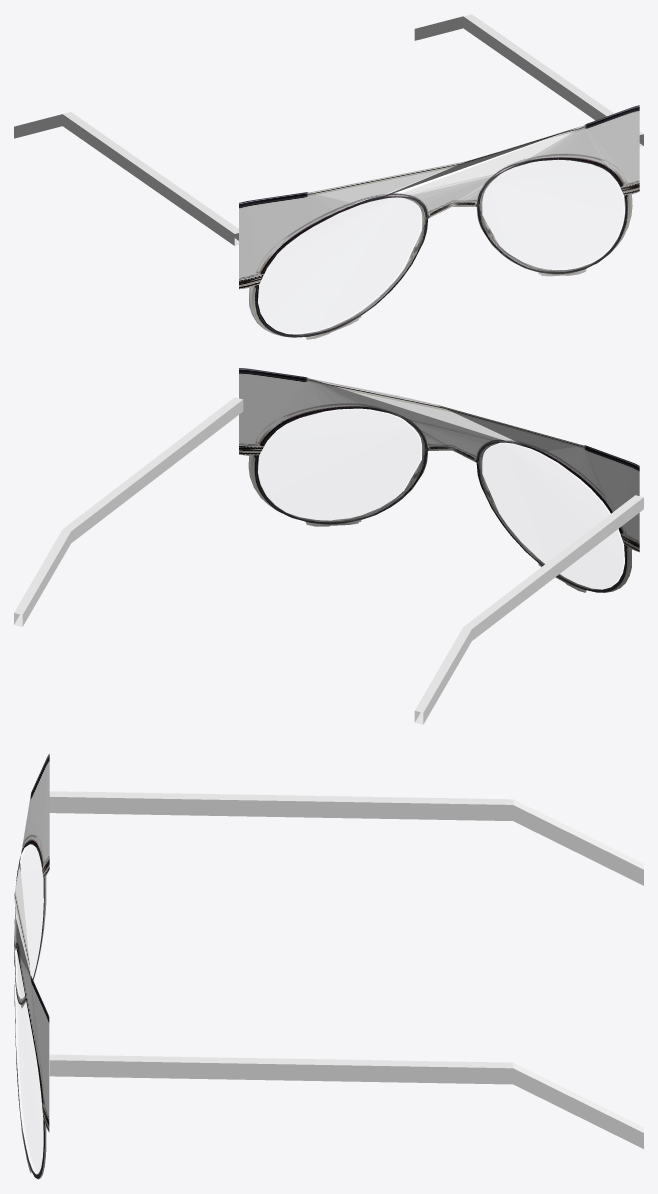
The model's file is trend-spotter-supreme-6_black-silver.glb.
The picture shows the model from 3 angles, top to bottom: view 1: azimuth 30°, elevation 25°; view 2: azimuth 150°, elevation 25°; view 3: azimuth 270°, elevation 25°; orthographic projection. The views are drawn at different scales.
Parts seen in each view (by area): view 1: frame_front, temple_viewer_left, temple_viewer_right; view 2: frame_front, temple_viewer_left, temple_viewer_right; view 3: temple_viewer_right, temple_viewer_left, frame_front.
Boxes of the visible parts, x1,y1,x2,y2 form: frame_front: (239,105,639,339); temple_viewer_left: (14,112,238,245); temple_viewer_right: (414,14,643,146); frame_front: (239,368,639,592); temple_viewer_left: (414,495,643,724); temple_viewer_right: (14,397,243,626); temple_viewer_right: (49,1054,643,1148); temple_viewer_left: (49,791,643,885); frame_front: (14,753,49,1179).
Size of the model in its own units: 0.1425 by 0.0492 by 0.141.
3 materials, 2 textured.
